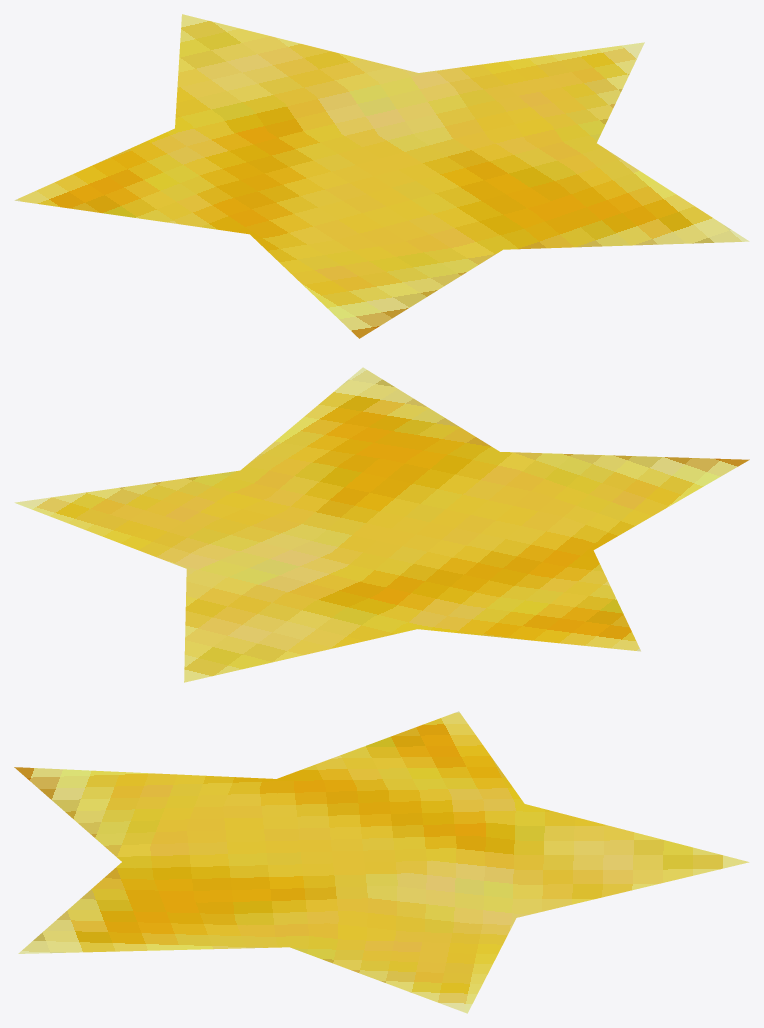
File: xingxing_03.FBX
The picture shows the model from 3 angles, top to bottom: view 1: azimuth 30°, elevation 25°; view 2: azimuth 150°, elevation 25°; view 3: azimuth 270°, elevation 25°; orthographic projection. The views are drawn at different scales.
Parts seen in each view (by area): view 1: xingxing_02; view 2: xingxing_02; view 3: xingxing_02.
Part boxes in pixels (x1,y1,x2,y2): xingxing_02: [14, 14, 749, 338]; xingxing_02: [14, 367, 749, 682]; xingxing_02: [14, 711, 749, 1013].
Size of the model in its own units: 28.44 by 1.78e-15 by 29.25.
